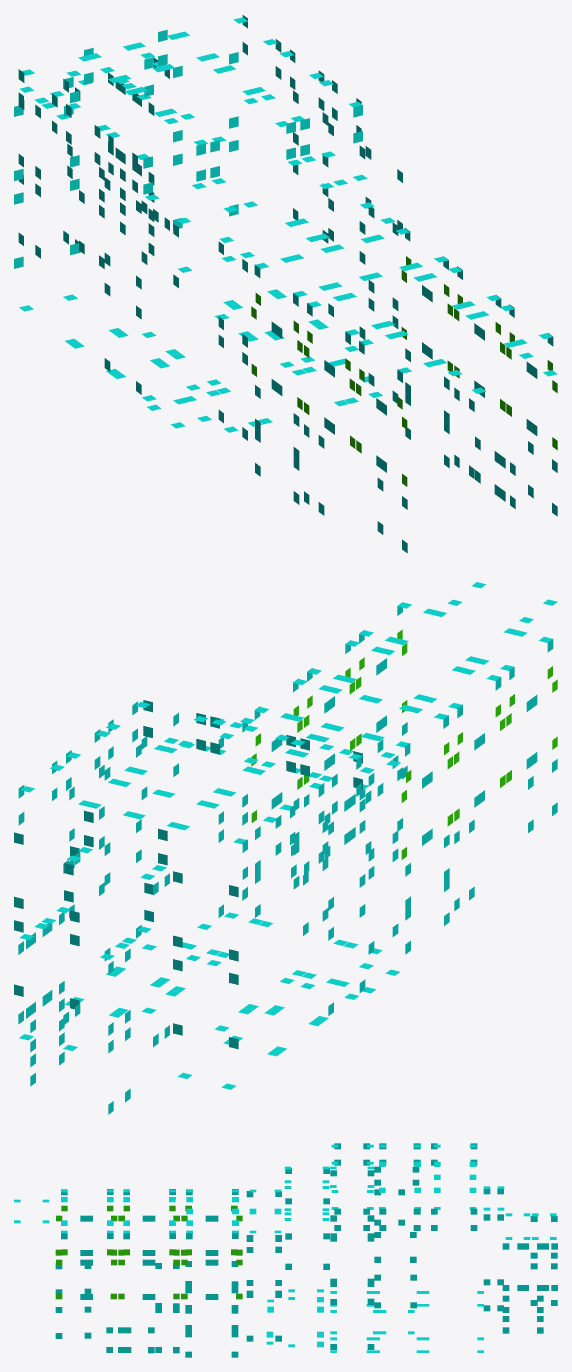
File: ZvezdaClick.fbx
3 views of the same model, one above another, from view 1: azimuth 30°, elevation 25°; view 2: azimuth 150°, elevation 25°; view 3: azimuth 270°, elevation 25° (orthographic). The views are drawn at different scales.
Bounding box in the file's own units: 2251 × 2552 × 7882.
